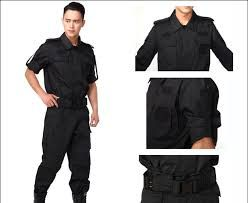uniform: (40, 37, 94, 189)
